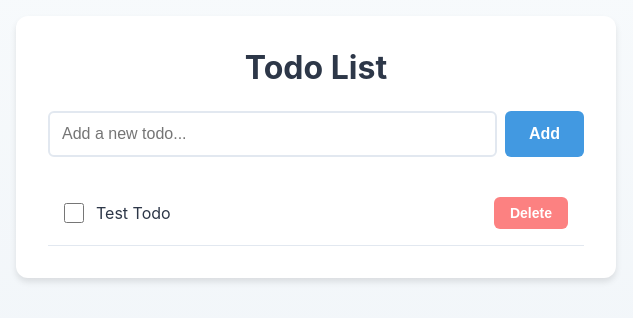
Home Component › should delete a todo
This screenshot has width=633, height=318.
Expected: the text "Test Todo" is shown, [96,203,171,223]
Click the button "Delete" at (531, 213), box [494,197,568,229]
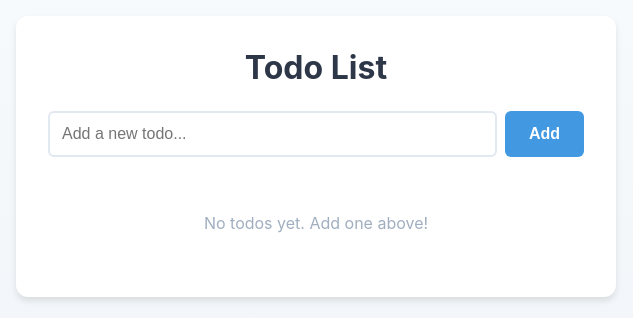
Now the text "Test Todo" is gone
Now the list item "No todos yet. Add one above!" is shown, box [204,213,428,233]
